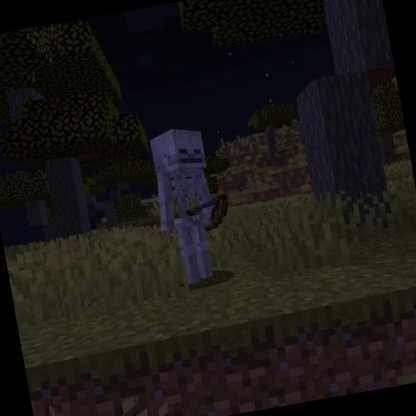skeleton: (138, 118, 245, 293)
